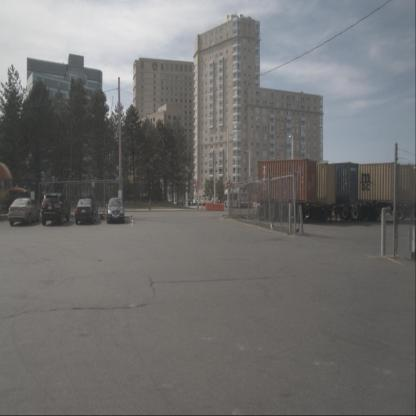movable_object-barrier: (205, 203, 214, 212), (213, 203, 220, 211), (219, 203, 224, 211)
vehicle-bus-rigid: (224, 188, 248, 209)
vehicle-car: (8, 197, 40, 227), (42, 192, 70, 225), (75, 199, 97, 224), (107, 198, 124, 224)
vehicle-truck: (0, 162, 29, 214)
